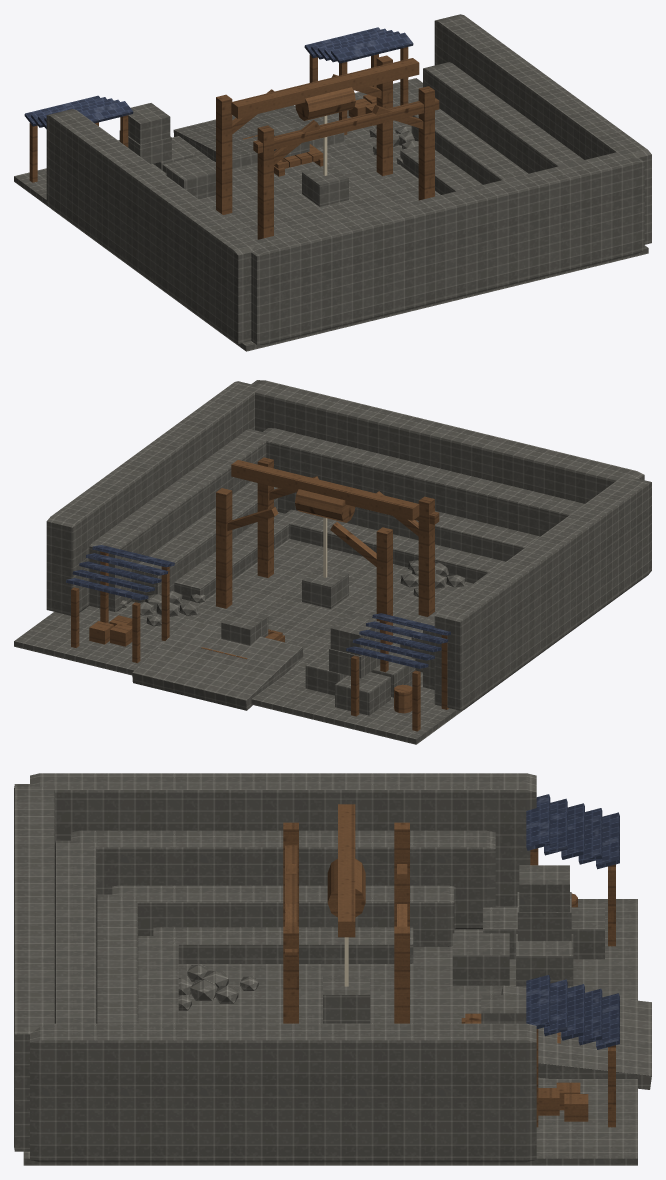
The model's file is quarry.gltf.
3 views of the same model, one above another, from view 1: azimuth 30°, elevation 25°; view 2: azimuth 150°, elevation 25°; view 3: azimuth 270°, elevation 25° (orthographic). The views are drawn at different scales.
Parts seen in each view (by area): view 1: Quarry; view 2: Quarry; view 3: Quarry.
Part boxes in pixels (bbox=[...]): Quarry: bbox=[14, 14, 651, 351]; Quarry: bbox=[14, 380, 651, 744]; Quarry: bbox=[14, 773, 651, 1165].
Size of the model in its own units: 8 by 2.47 by 8.06.
8 materials, 7 textured.
